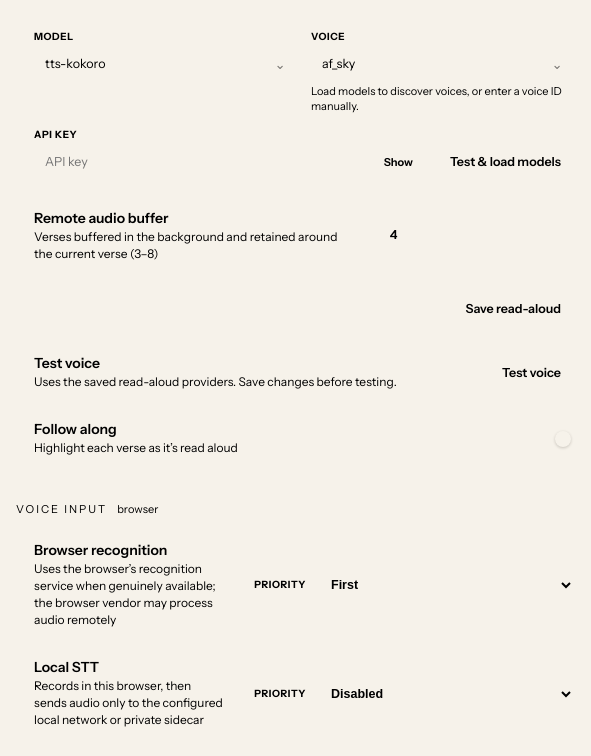
Test: Settings voice sample › shows a safe synthesis error and permits retry even when unlocking is denied
(page scrolled)
Click the button with id "tts-test-voice" at point(532, 372), box [489,357,574,388]
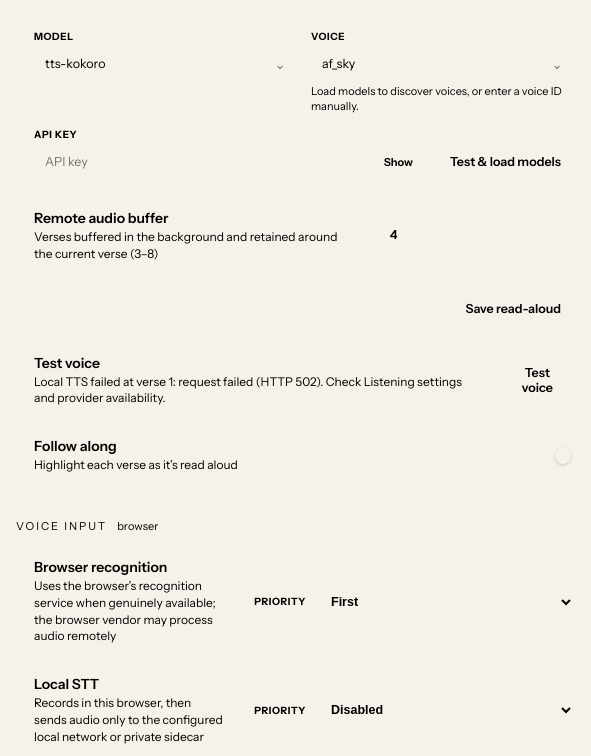
Expected: the button with id "tts-test-voice" is enabled, [501,358,574,404]
Result: the text "Local TTS failed at verse 1: request failed (HTTP 502)" is shown at [34,374,462,406]
